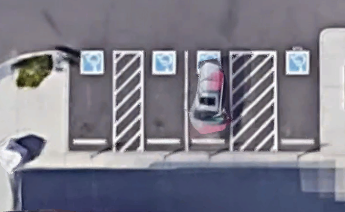Occupied: (186, 49, 231, 151)
Vacant: (68, 49, 113, 152), (142, 49, 186, 151), (275, 50, 319, 151)
